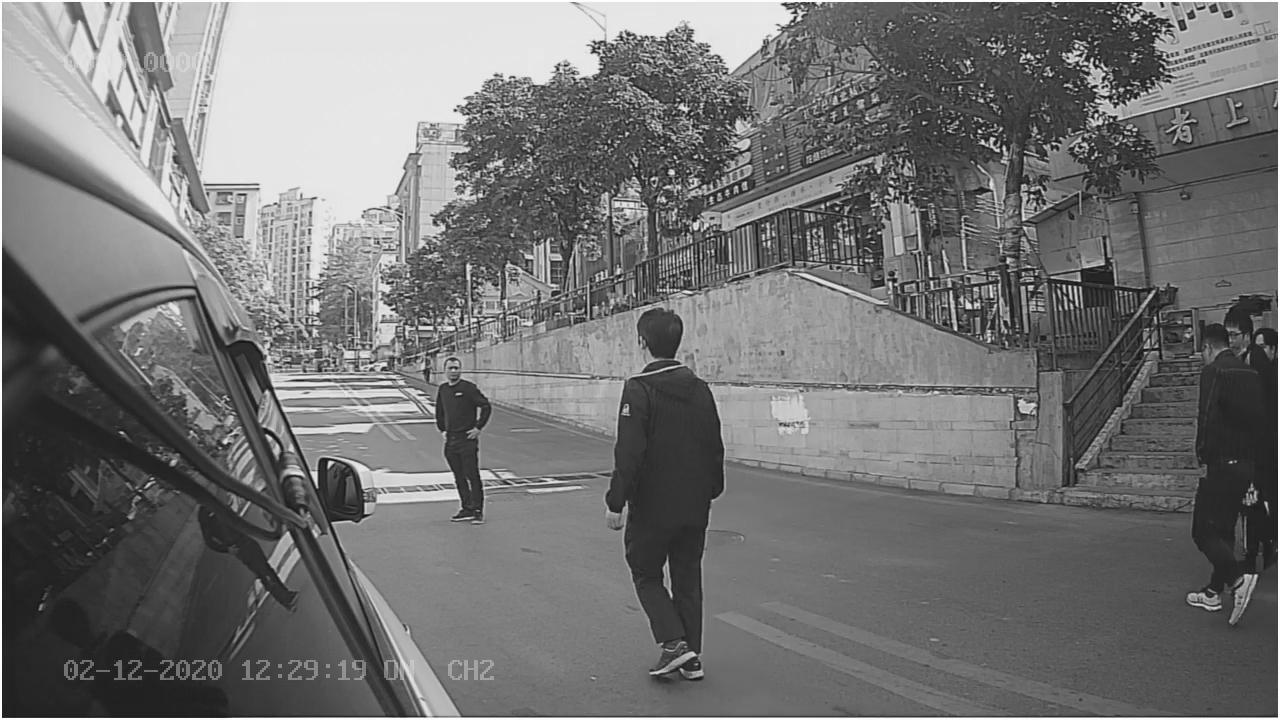person: (600, 304, 727, 682), (423, 347, 512, 536)
